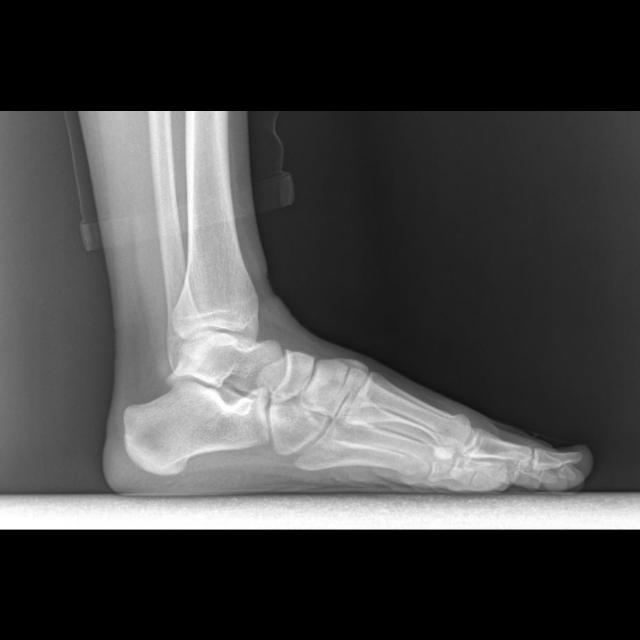a: (124, 380, 270, 475)
b: (271, 351, 315, 404)
c: (342, 368, 476, 458)
